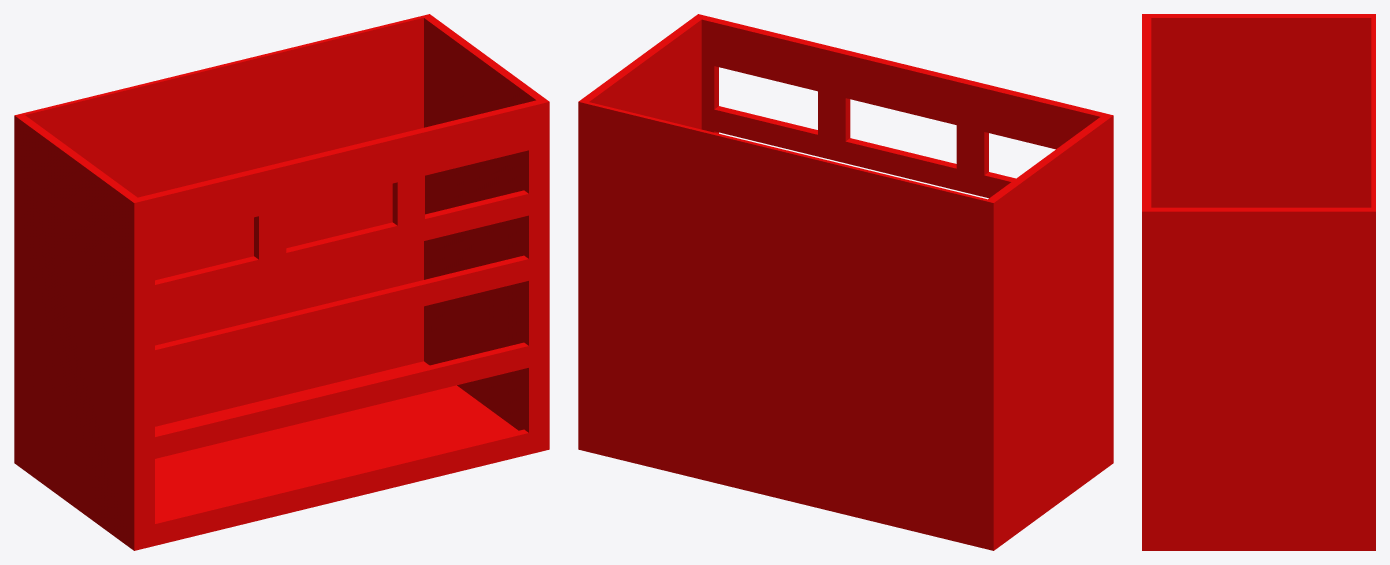
Rendered from tbcase.glb.
3 views of the same model, side by side, from view 1: azimuth 30°, elevation 25°; view 2: azimuth 150°, elevation 25°; view 3: azimuth 270°, elevation 25° (orthographic). The views are drawn at different scales.
Visible parts, largest first — view 1: Sketchfab_model_0; view 2: Sketchfab_model_0; view 3: Sketchfab_model_0.
Boxes of the visible parts, x1,y1,x2,y2 form: Sketchfab_model_0: (14,14,549,550); Sketchfab_model_0: (578,14,1113,550); Sketchfab_model_0: (1142,14,1375,550).
Bounding box in the file's own units: 0.5 × 0.4 × 0.25.
